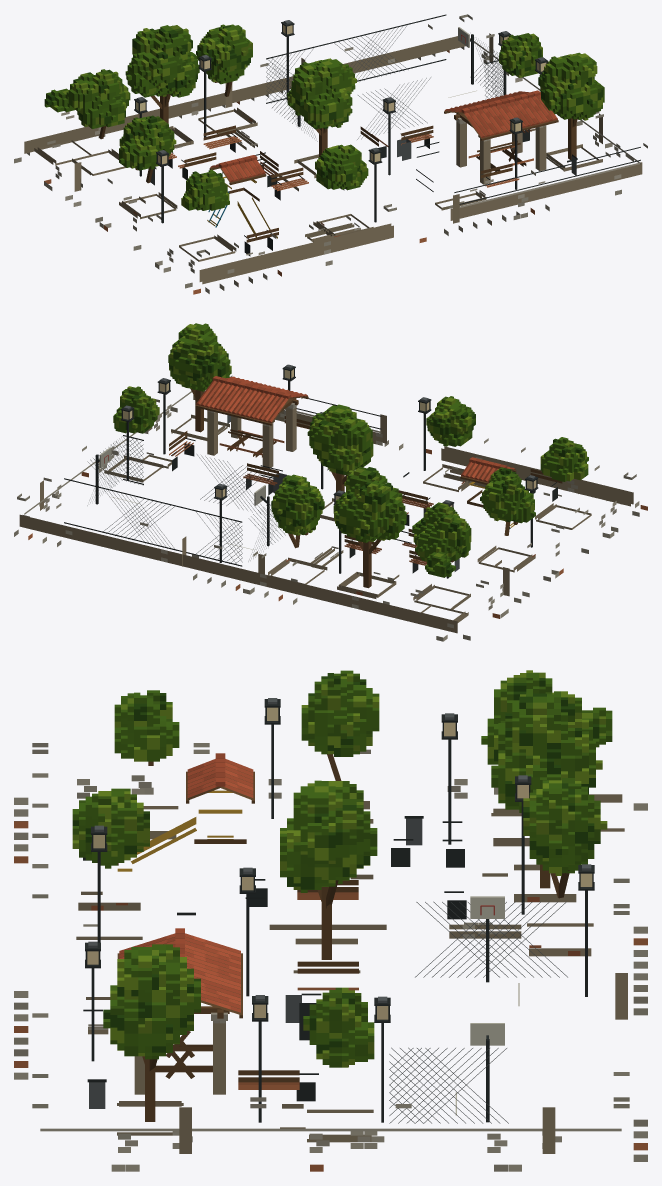
Rendered from SM_StreetFrontage_119.fbx.
The picture shows the model from 3 angles, top to bottom: view 1: azimuth 30°, elevation 25°; view 2: azimuth 150°, elevation 25°; view 3: azimuth 270°, elevation 25°; orthographic projection. The views are drawn at different scales.
Visible parts, largest first — view 1: SM_StreetFrontage_119; view 2: SM_StreetFrontage_119; view 3: SM_StreetFrontage_119.
Boxes of the visible parts, x1,y1,x2,y2 form: SM_StreetFrontage_119: (14, 14, 647, 294); SM_StreetFrontage_119: (14, 323, 647, 641); SM_StreetFrontage_119: (14, 670, 647, 1171).
Size of the model in its own units: 80 by 56.85 by 19.79.
